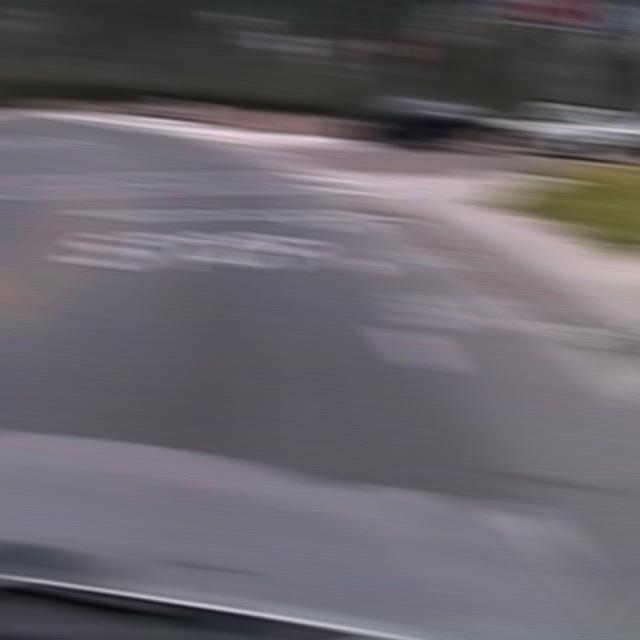stop: (372, 28, 412, 66)
